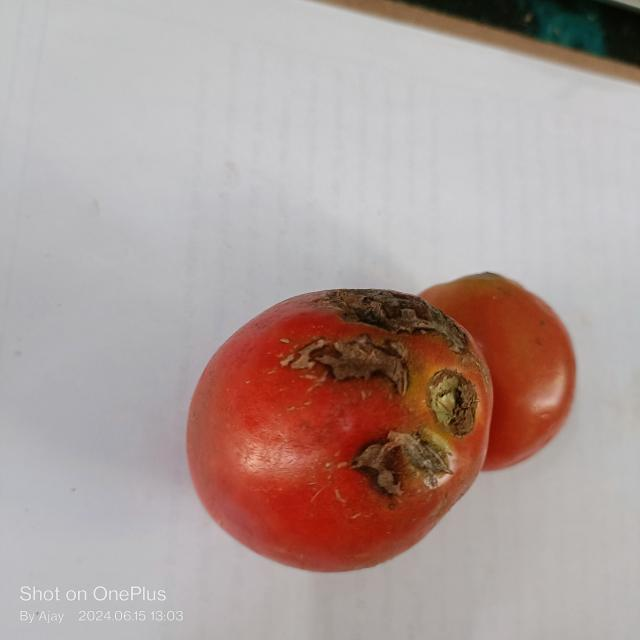Bacterial_Spot: (282, 334, 411, 396), (348, 430, 448, 498), (329, 289, 431, 328), (426, 370, 478, 420)
